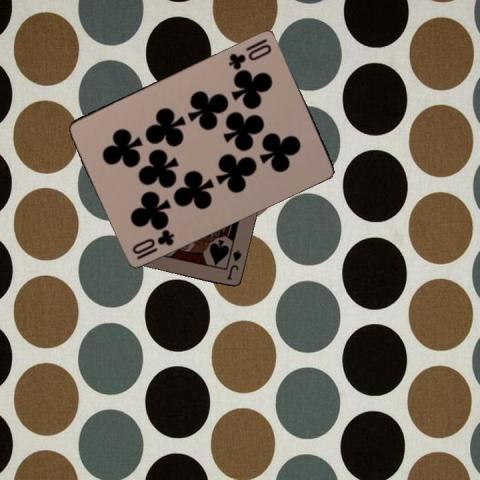10c: (226, 34, 274, 70), (129, 226, 176, 261)
Js: (223, 246, 243, 280)
